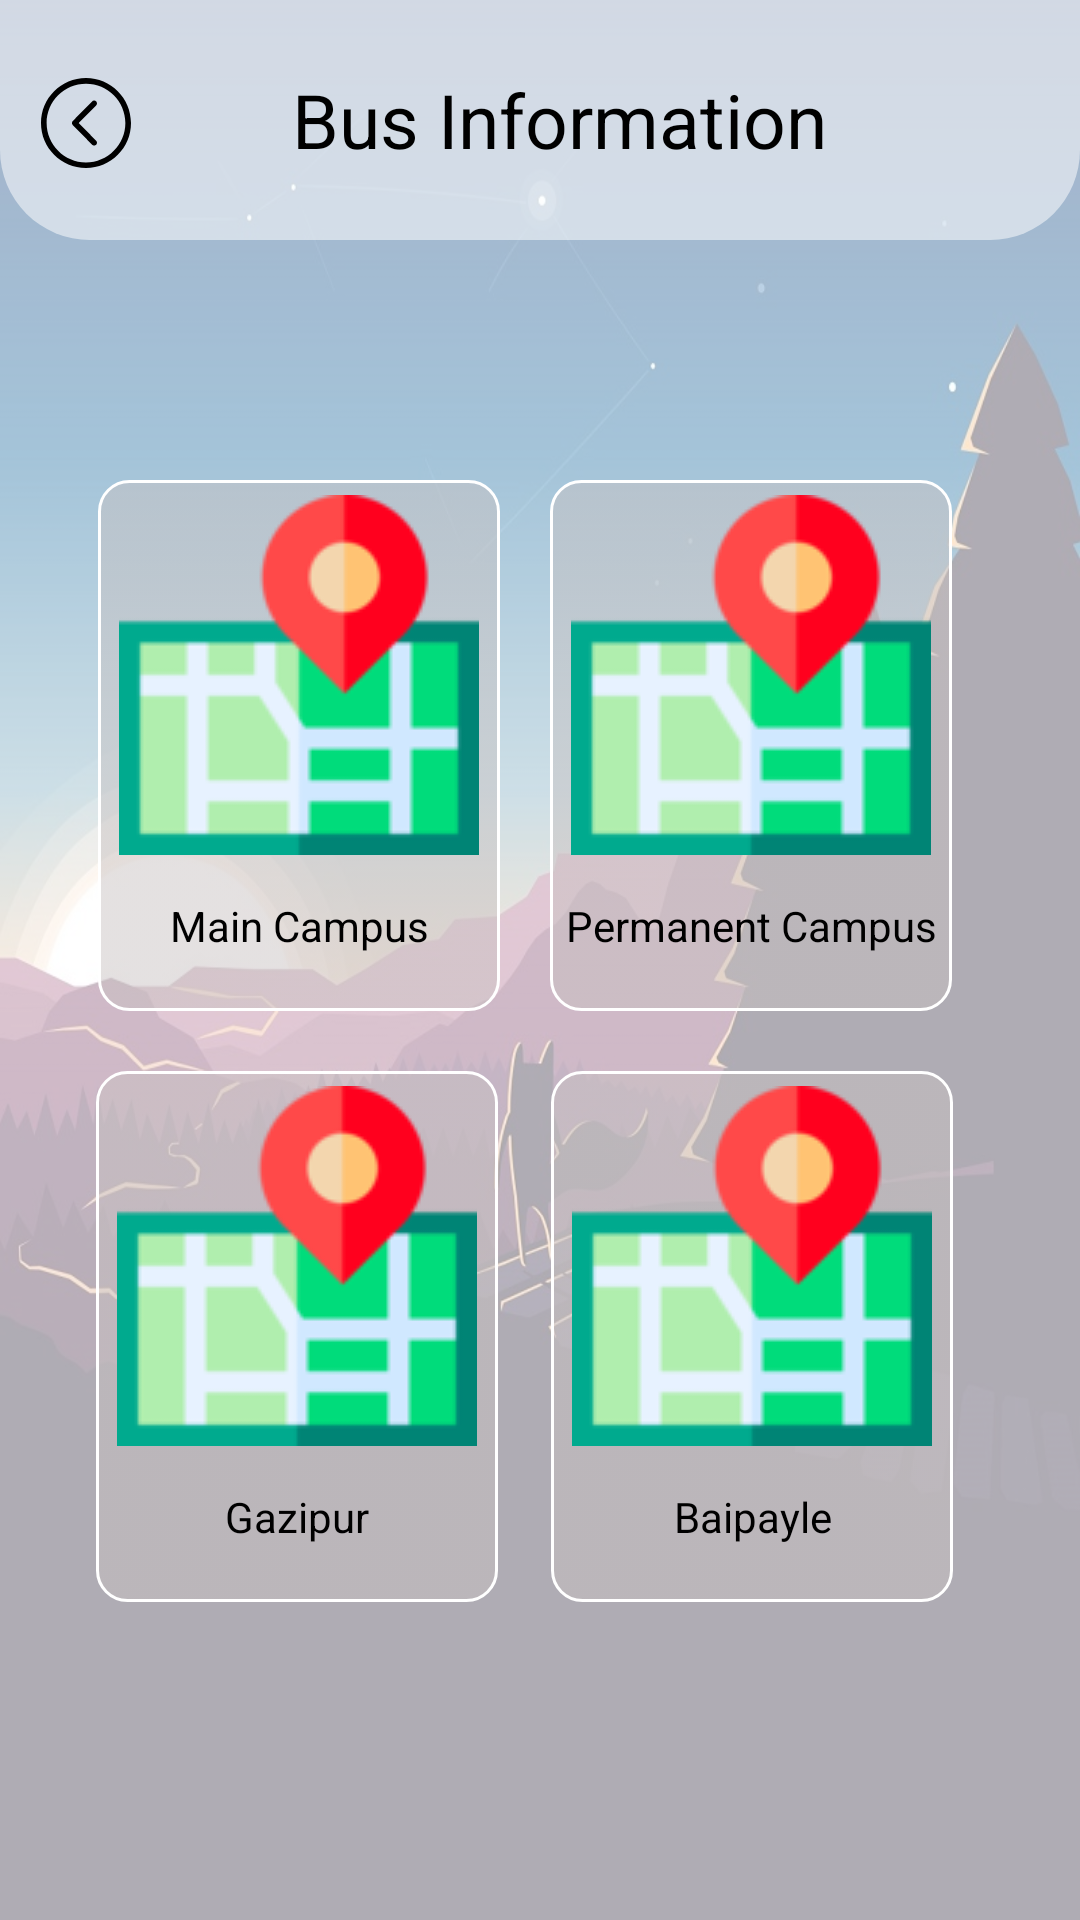

Screen size 1080px x 1920px. Icon name, then its box in pixels as [x1, y1, x2, y2]:
backdx: [41, 78, 131, 168]
